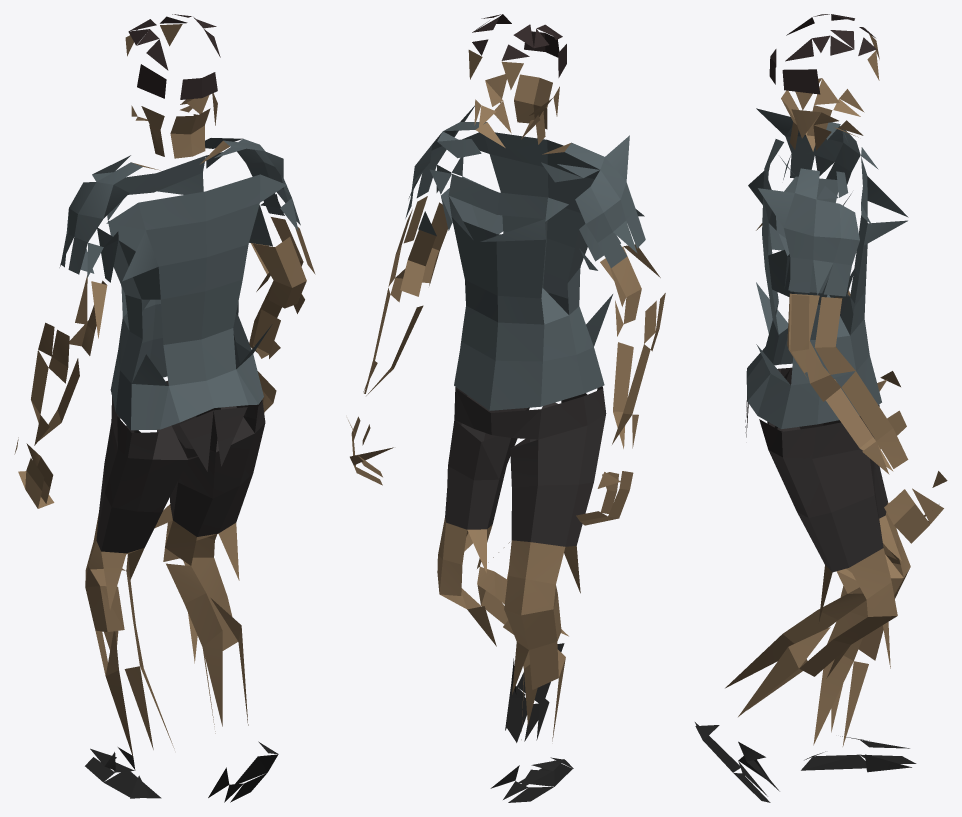
Rendered from personfar_3_w2.fbx.
The picture shows the model from 3 angles, left to right: view 1: azimuth 30°, elevation 25°; view 2: azimuth 150°, elevation 25°; view 3: azimuth 270°, elevation 25°; orthographic projection. The views are drawn at different scales.
Visible parts, largest first — view 1: BaseHuman; view 2: BaseHuman; view 3: BaseHuman.
Boxes of the visible parts, x1=… form: BaseHuman: x1=14, y1=14, x2=315, y2=802; BaseHuman: x1=348, y1=14, x2=665, y2=802; BaseHuman: x1=695, y1=14, x2=947, y2=802.
Size of the model in its own units: 0.3554 by 0.9789 by 0.293.
